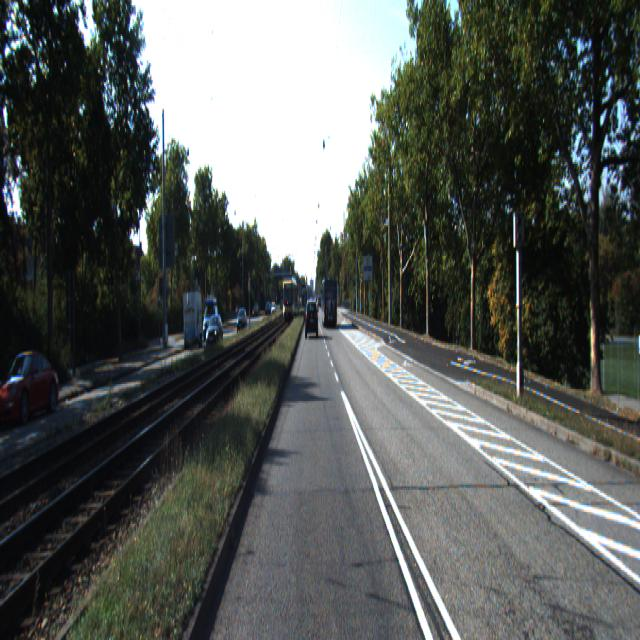Car: (0, 344, 63, 431), (182, 291, 203, 352), (321, 276, 338, 328), (204, 313, 224, 353), (306, 299, 318, 339)
